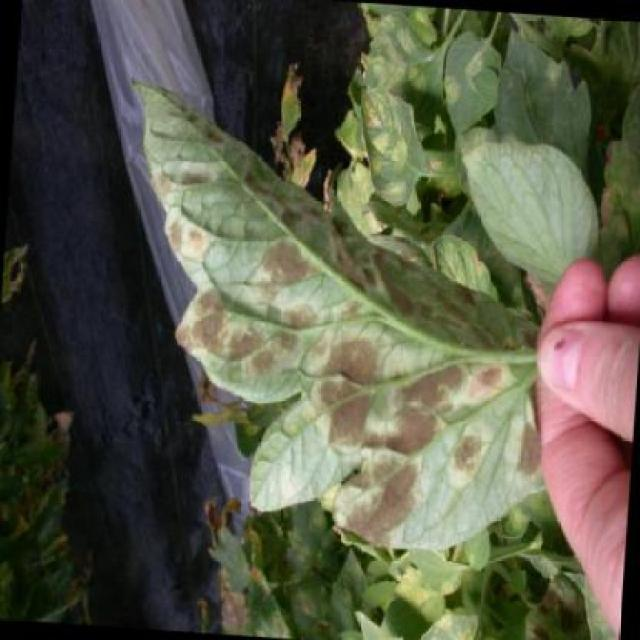Leaf Mold: (94, 211, 557, 548)
